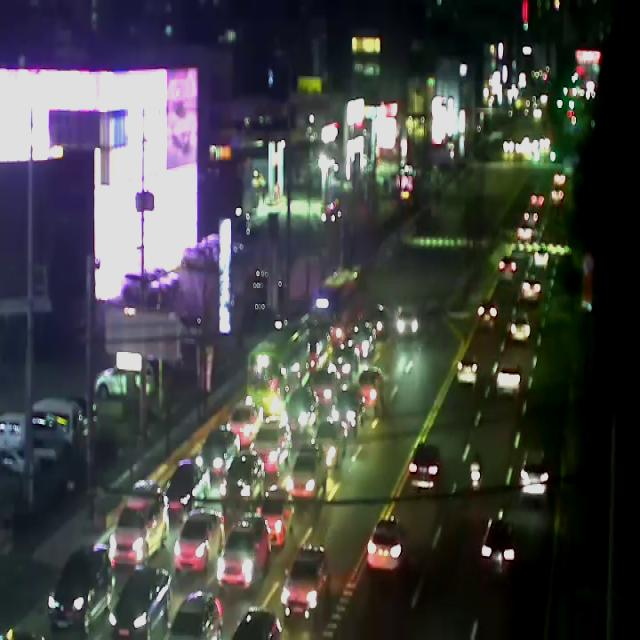Bus: (245, 319, 310, 415), (312, 266, 365, 340)
Car: (48, 547, 114, 633), (108, 482, 170, 570), (108, 565, 172, 640), (217, 512, 272, 592), (280, 544, 328, 621), (173, 511, 223, 573), (162, 461, 211, 522), (167, 591, 224, 640), (94, 359, 154, 398), (256, 487, 295, 547), (286, 445, 327, 502), (480, 517, 517, 580), (195, 428, 241, 478), (220, 455, 264, 507), (251, 421, 292, 476), (367, 520, 404, 570), (225, 401, 262, 447), (313, 419, 347, 467), (232, 607, 281, 640), (285, 389, 318, 436), (408, 443, 440, 491), (520, 447, 550, 495), (332, 389, 364, 432), (310, 369, 338, 410), (356, 368, 385, 407), (328, 351, 358, 383), (348, 327, 375, 358), (395, 306, 420, 336), (367, 304, 388, 336), (496, 365, 520, 393), (457, 358, 478, 387), (476, 302, 497, 326), (510, 316, 531, 340), (520, 278, 541, 302), (497, 256, 517, 278), (534, 250, 550, 268)
Motorcycle: (469, 451, 482, 489)
